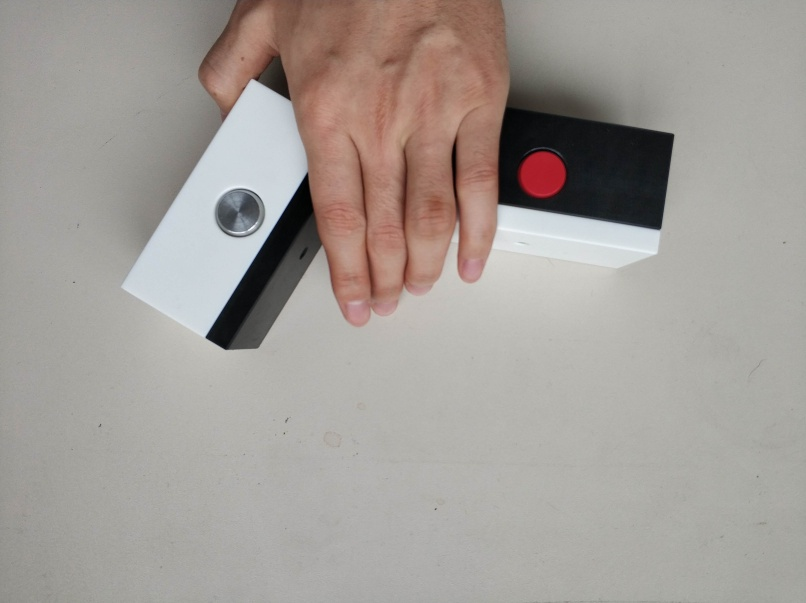black+white+silver: (117, 78, 325, 354)
white+black+red: (496, 102, 675, 272)
